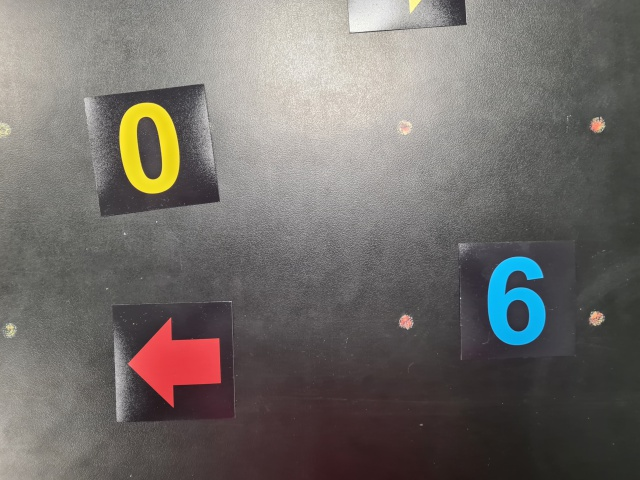left_arrow: (111, 301, 236, 423)
six: (458, 239, 578, 361)
zero: (81, 84, 221, 217)
